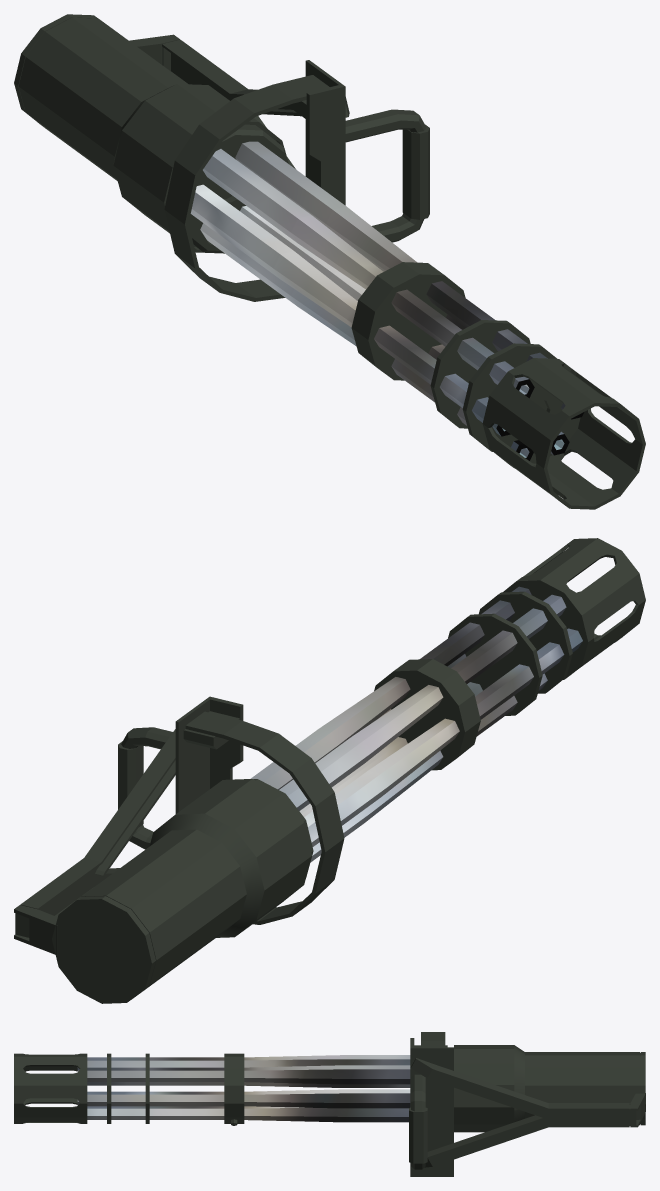
Rendered from Gun2_Minigun_Textured.fbx.
The picture shows the model from 3 angles, top to bottom: view 1: azimuth 30°, elevation 25°; view 2: azimuth 150°, elevation 25°; view 3: azimuth 270°, elevation 25°; orthographic projection. The views are drawn at different scales.
Visible parts, largest first — view 1: Gun, Barrel; view 2: Barrel, Gun; view 3: Gun, Barrel.
Boxes of the visible parts, x1,y1,x2,y2 form: Gun: (190, 141, 645, 509); Barrel: (14, 14, 429, 301); Barrel: (14, 696, 344, 1003); Gun: (250, 538, 645, 862); Gun: (14, 1053, 410, 1125); Barrel: (409, 1032, 645, 1176).
Bounding box in the file's own units: 1.88 × 1.62 × 7.2.
